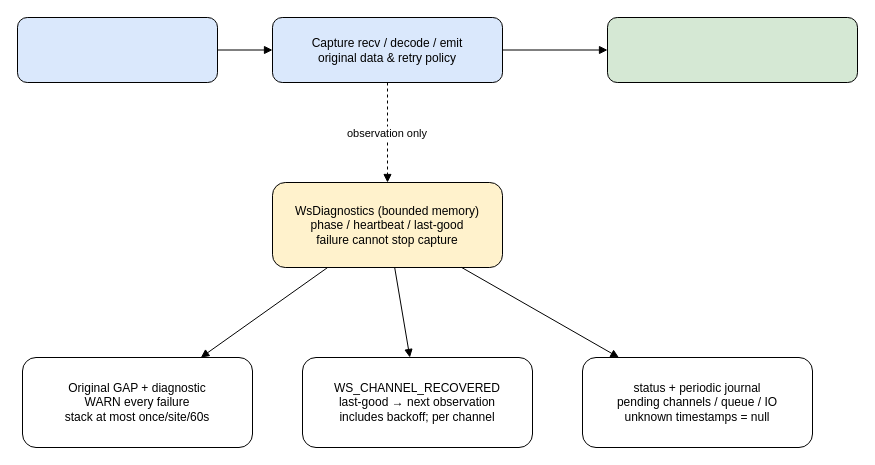
Some shapes in this 875 by 465 pixel diagram are drawn without their labels. The centre of each missing label's shape, as x and y in pixels:
HTX public WS protocol Ping/Pong unchanged: the point at 117,49
Original queue + DEPTH catch-up SegmentRecorder → COS pipeline: the point at 732,49
